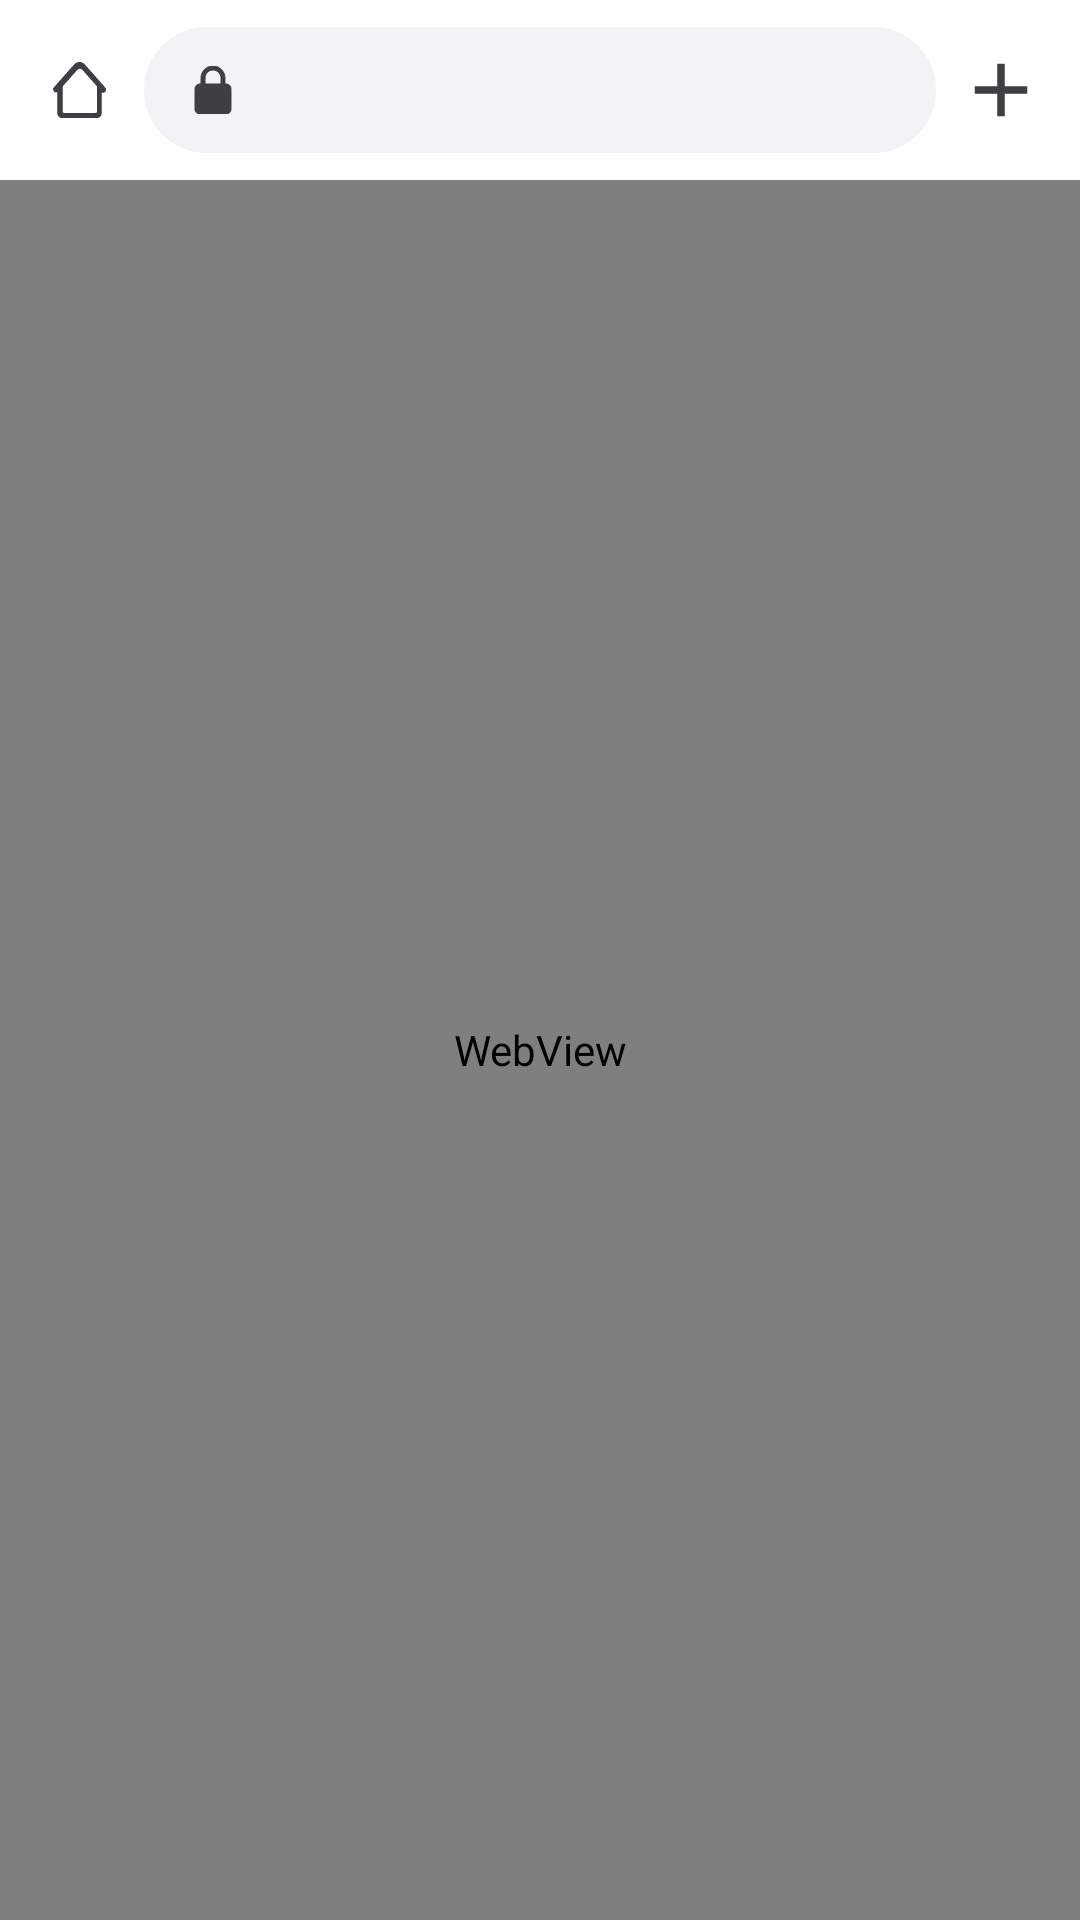

Icon click points for this 1080×1920 phone screenshot, format (x=x, y=y):
add: (x=1001, y=90)
home: (x=79, y=90)
